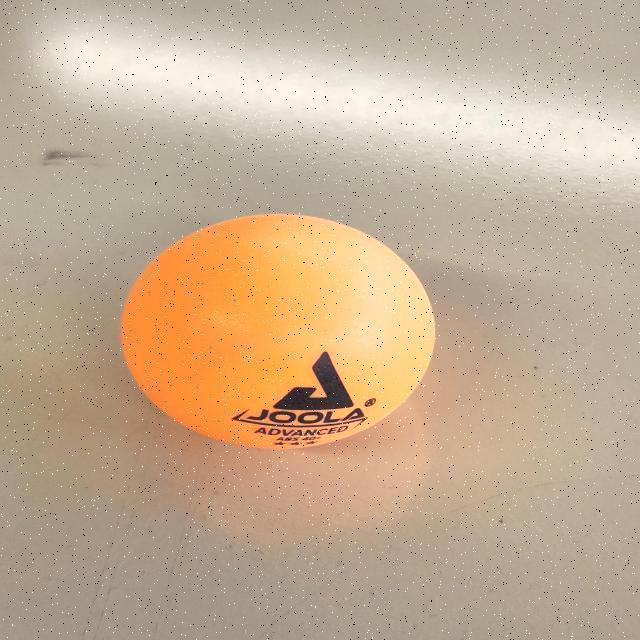ping-pong-ball: (111, 204, 447, 459)
